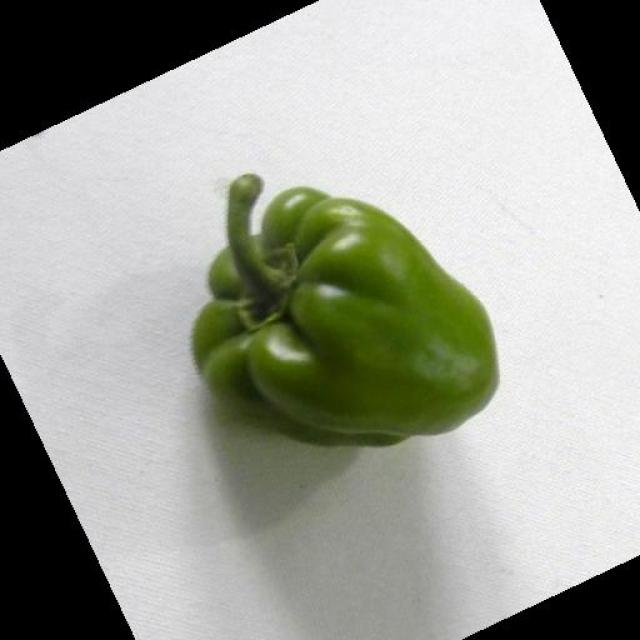Fresh_Capsicum: (209, 156, 517, 469)
